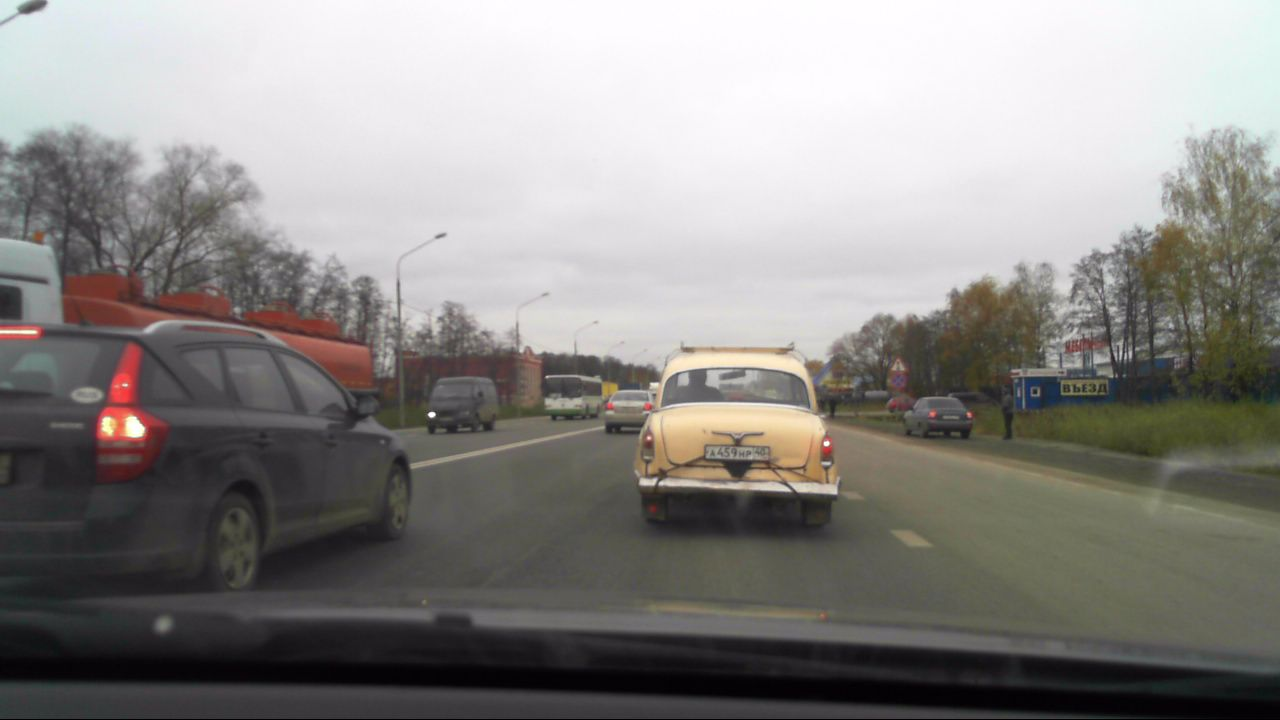No Parking: (886, 371, 909, 392)
